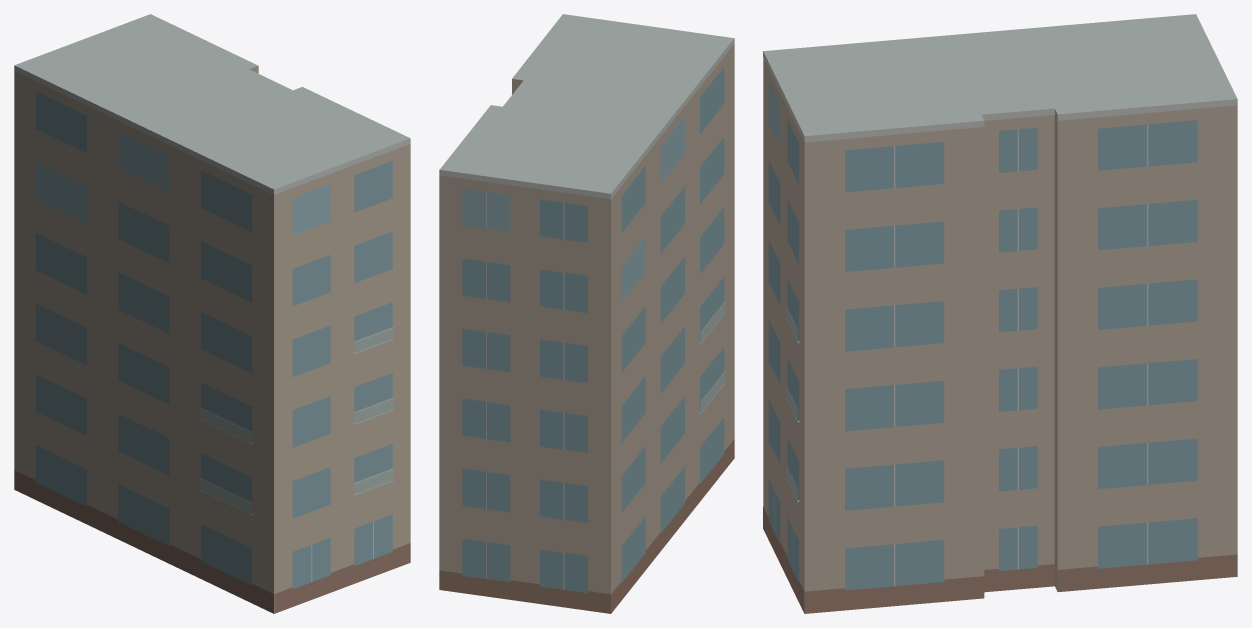
The model's file is survey-upis-33039641.glb.
3 renders of one model, left to right at view 1: azimuth 30°, elevation 25°; view 2: azimuth 150°, elevation 25°; view 3: azimuth 270°, elevation 25°, orthographic. The views are drawn at different scales.
Visible parts, largest first — view 1: survey-upis-33039641.tmp; view 2: survey-upis-33039641.tmp; view 3: survey-upis-33039641.tmp.
Boxes of the visible parts, x1,y1,x2,y2 form: survey-upis-33039641.tmp: (14,14,410,613); survey-upis-33039641.tmp: (439,14,734,613); survey-upis-33039641.tmp: (763,14,1237,613).
Size of the model in its own units: 10.22 by 18.6 by 16.75.
